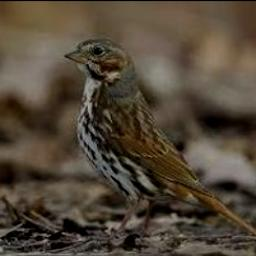Sparrow: (62, 38, 256, 237)
